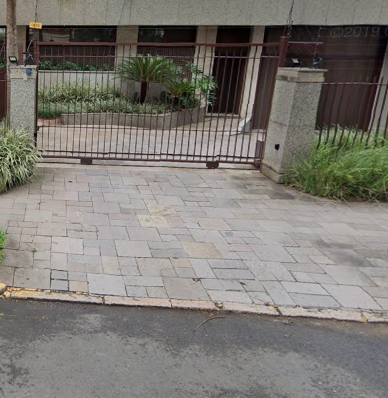vag75: (17, 257, 358, 361)
